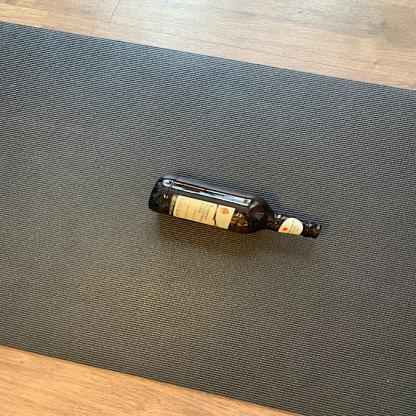trash: (146, 171, 324, 243)
